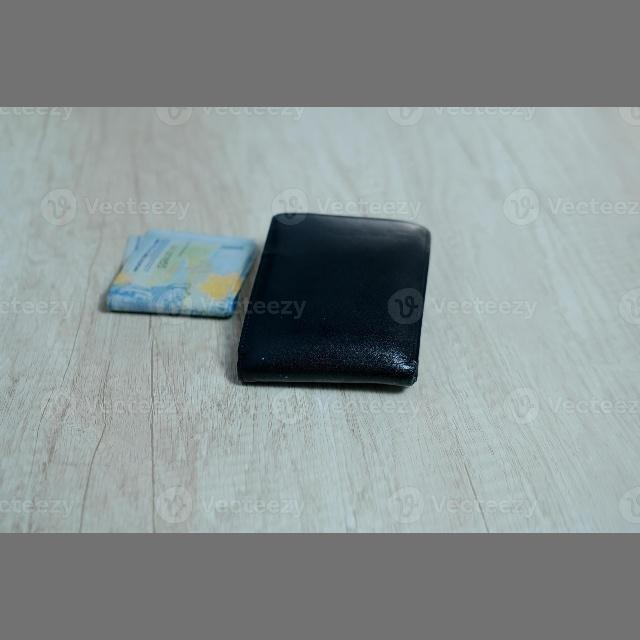Wallet: (239, 204, 456, 406)
